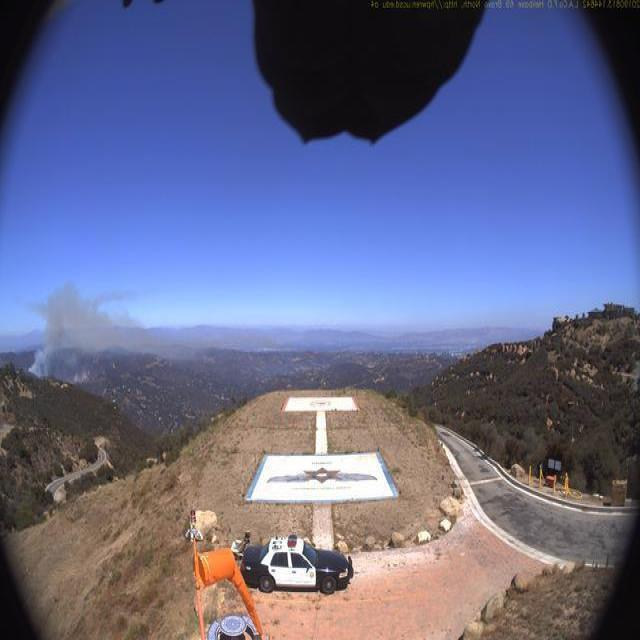Smoke: (26, 280, 179, 383)
